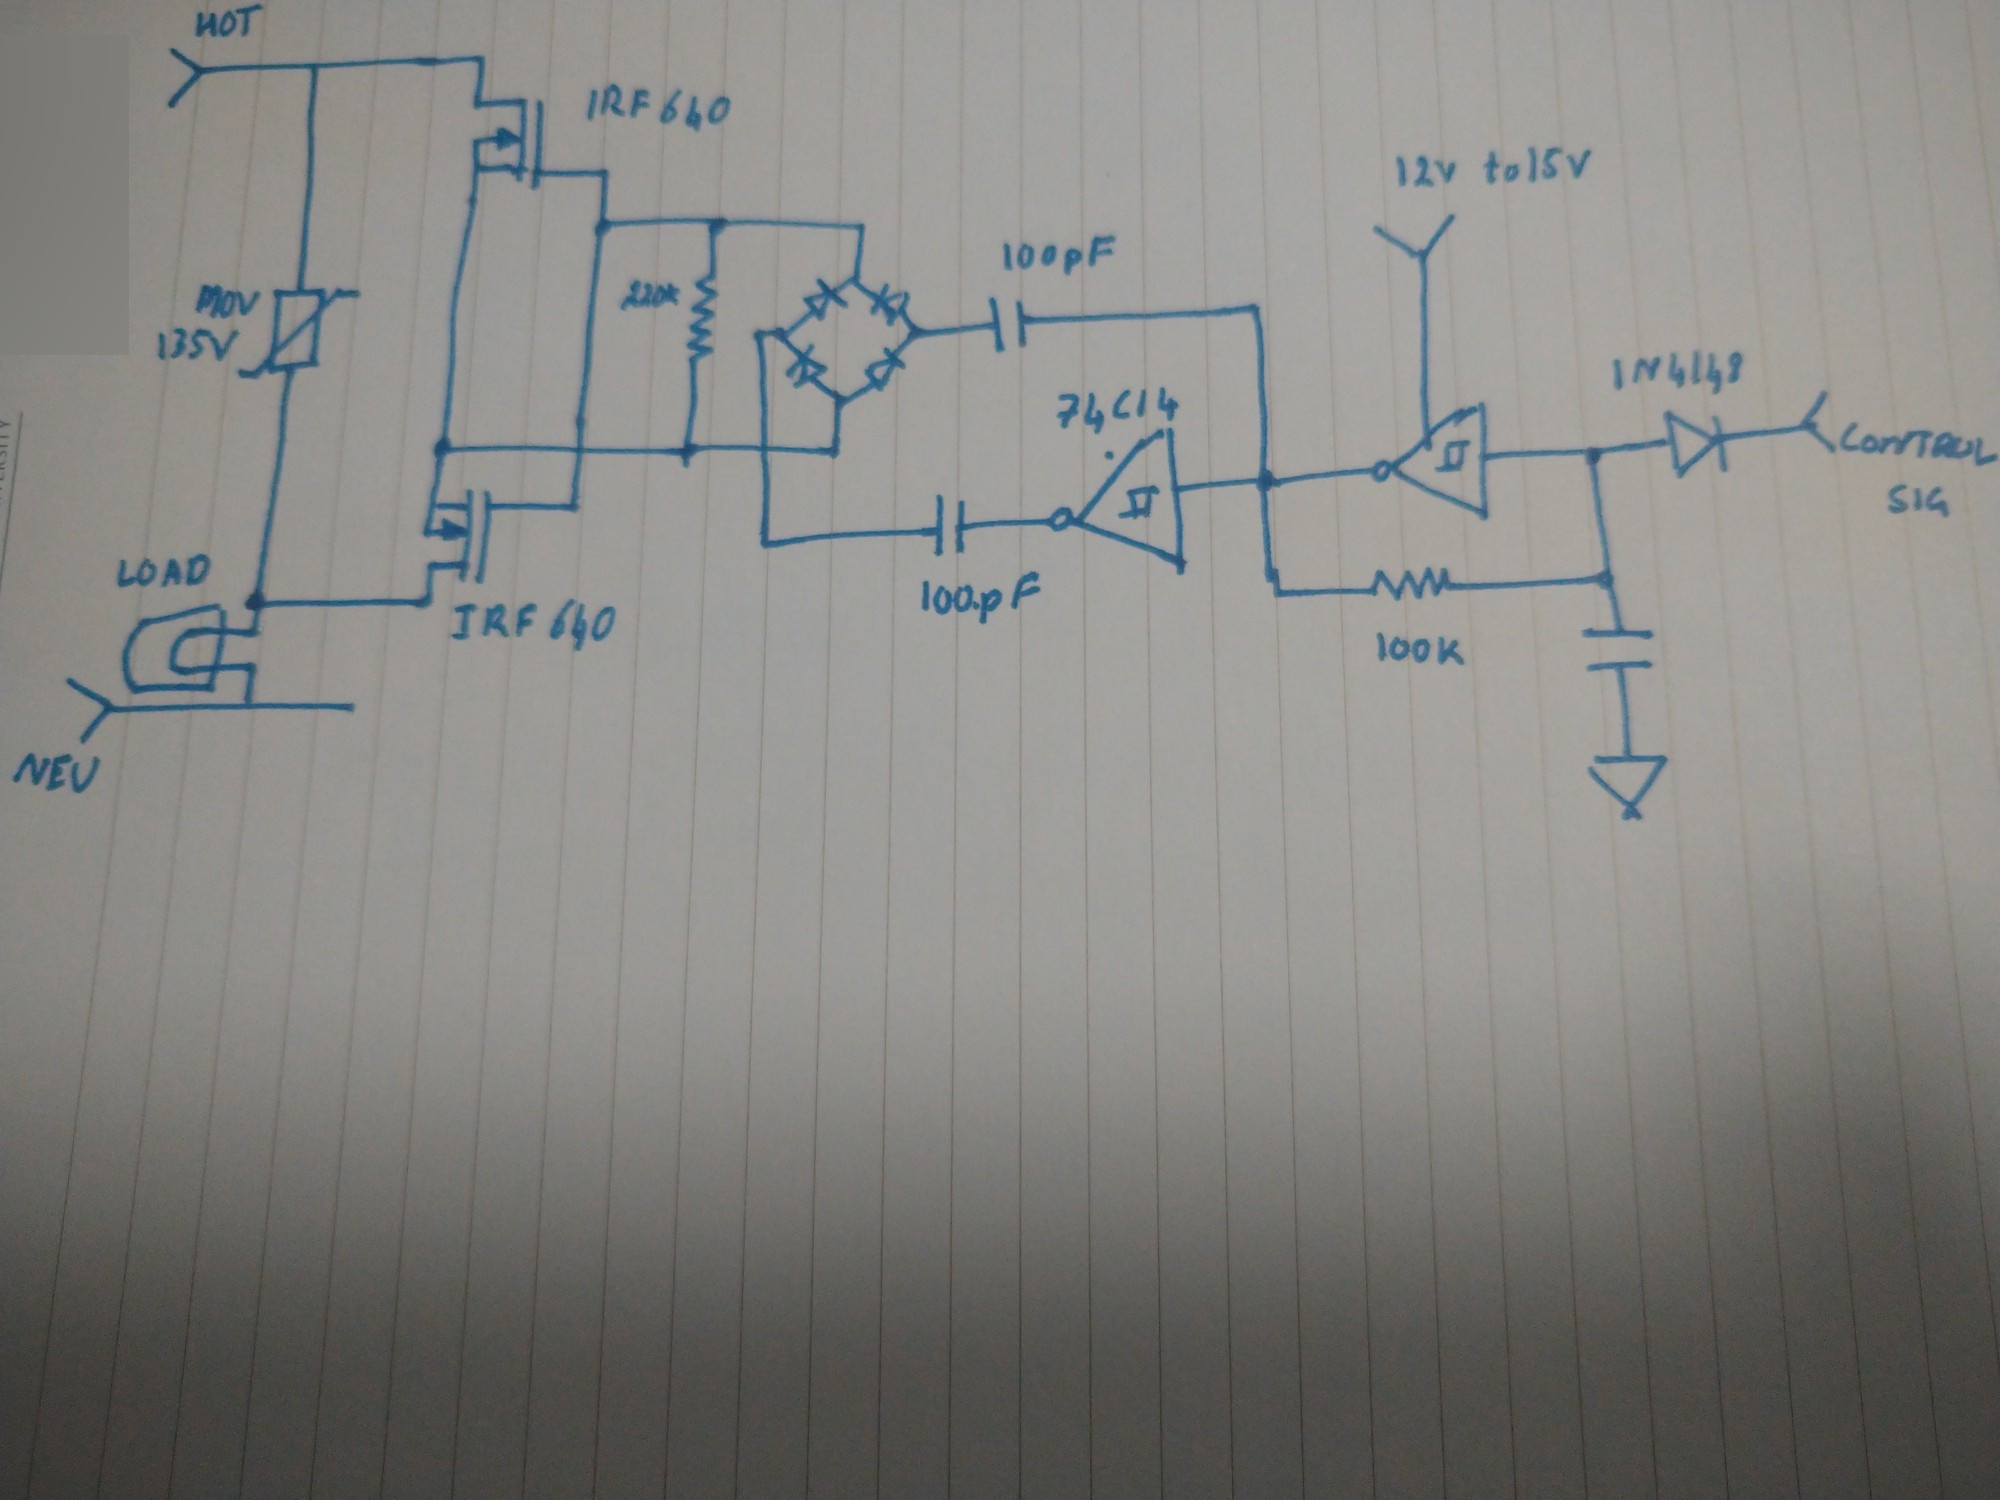capacitor.unpolarized: (1573, 618, 1661, 682), (983, 295, 1036, 358), (926, 492, 970, 559)
crossover: (565, 440, 594, 462), (753, 436, 776, 459)
diode: (1655, 403, 1735, 481), (784, 343, 830, 391), (863, 348, 909, 392), (802, 279, 847, 321), (868, 284, 910, 326)
gnd: (1581, 748, 1672, 822)
junction: (1247, 466, 1283, 496), (702, 210, 732, 241), (587, 213, 616, 241), (676, 438, 702, 468), (1589, 566, 1619, 592), (1580, 440, 1606, 468), (1261, 578, 1291, 603), (822, 436, 849, 463), (1239, 296, 1266, 321), (430, 435, 455, 460), (241, 589, 268, 613), (753, 533, 776, 555), (561, 495, 586, 515), (416, 591, 439, 611), (594, 162, 616, 183), (236, 693, 257, 714), (831, 391, 850, 411), (852, 217, 872, 236), (906, 325, 924, 343), (244, 622, 263, 640), (343, 696, 361, 715), (306, 57, 324, 74), (471, 50, 490, 68), (846, 273, 863, 290), (243, 657, 258, 676), (773, 321, 787, 342), (751, 326, 767, 343)
lamp: (118, 600, 227, 696)
resistor: (1361, 564, 1457, 607), (683, 271, 720, 364)
schmitt_trigger: (1047, 427, 1189, 577), (1365, 402, 1499, 525)
terminal: (1369, 213, 1460, 262), (63, 674, 113, 744), (162, 44, 205, 112), (1798, 384, 1835, 454)
text: (1394, 143, 1594, 191), (447, 599, 617, 652), (1836, 418, 2000, 473), (584, 80, 732, 134), (1603, 347, 1750, 397), (920, 570, 1043, 626), (1055, 386, 1180, 433), (1002, 235, 1117, 276), (9, 752, 101, 797), (1373, 629, 1468, 670), (113, 551, 213, 589), (154, 326, 241, 364), (1883, 481, 1953, 525), (191, 282, 261, 321), (194, 3, 265, 41), (617, 279, 680, 312)
transistor: (465, 95, 550, 194), (420, 484, 494, 585)
varistor: (236, 285, 364, 380)
